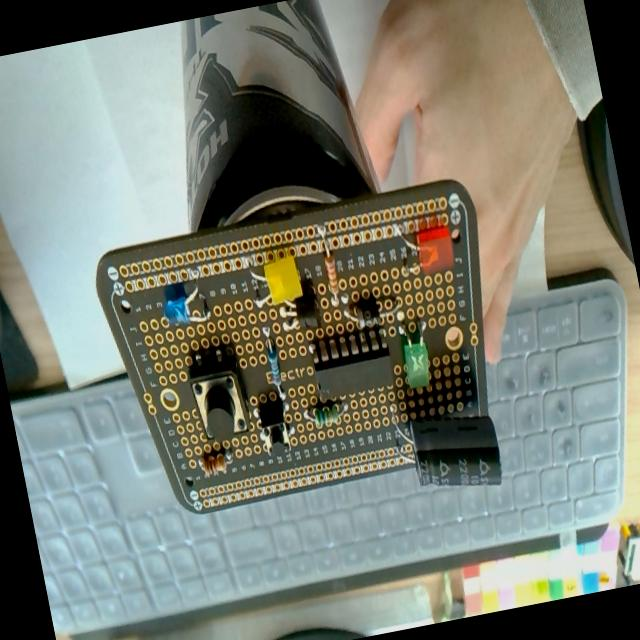Electrolytic capacitor: (368, 394, 507, 507)
IC: (310, 327, 396, 404)
diode: (343, 292, 401, 332)
led: (384, 204, 469, 290), (158, 278, 211, 329), (396, 322, 434, 391), (261, 250, 306, 308)
resistor: (316, 225, 344, 304), (262, 335, 288, 400), (304, 398, 349, 428), (198, 448, 236, 480)
switch: (186, 353, 252, 448), (253, 399, 296, 461)
transistor: (276, 290, 326, 335)
